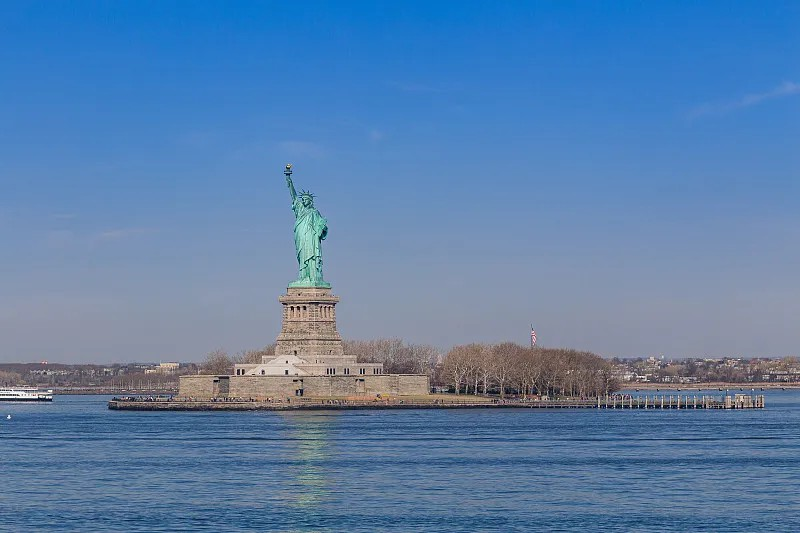SL: (275, 162, 344, 355)
